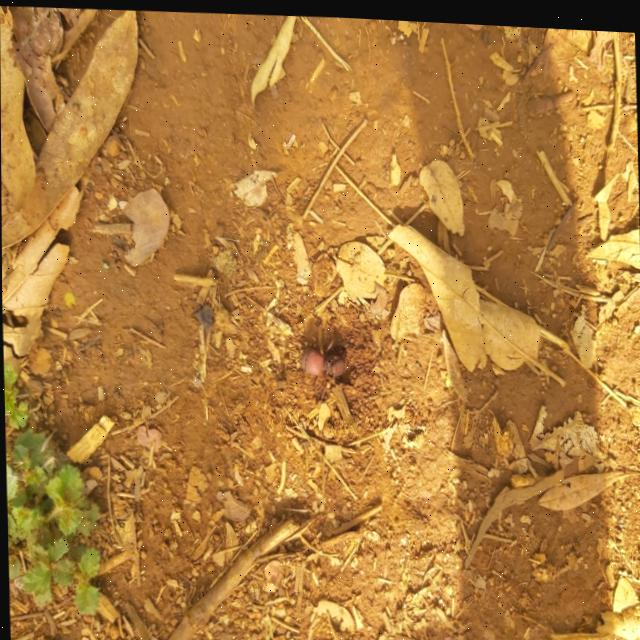Alive-Female-Dealate: (289, 320, 346, 398)
